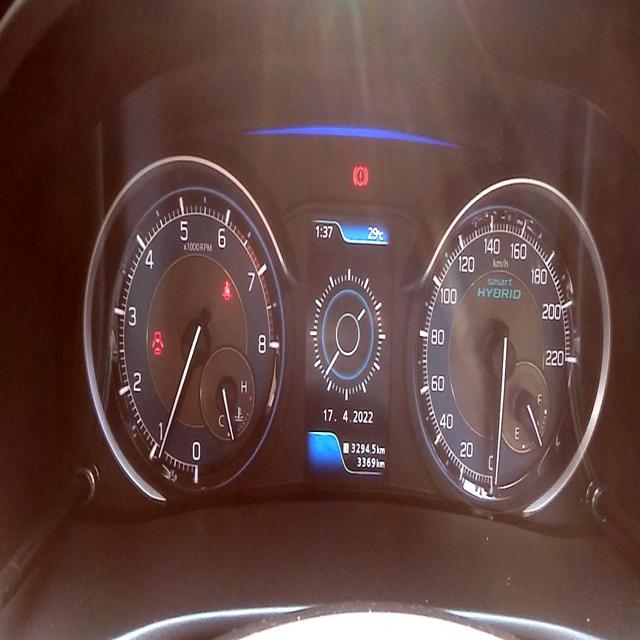odometer: (356, 454, 377, 468)
